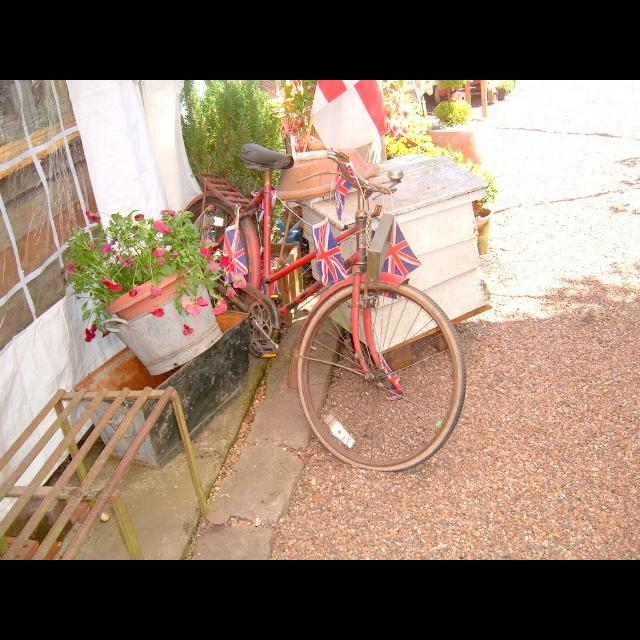Flower: (102, 276, 122, 294), (82, 323, 98, 343), (83, 208, 101, 225), (199, 240, 217, 256), (213, 296, 227, 316), (234, 269, 248, 289), (206, 258, 218, 276), (154, 218, 168, 232), (220, 255, 233, 269), (64, 263, 78, 275), (130, 284, 142, 296), (181, 323, 193, 335), (152, 246, 164, 256), (152, 286, 164, 296), (159, 208, 175, 215), (226, 286, 234, 300), (102, 242, 111, 254), (136, 212, 144, 222)
